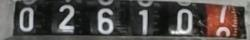digits: (212, 2, 230, 40), (169, 8, 192, 34), (57, 3, 75, 30), (97, 8, 114, 34), (18, 7, 34, 31), (138, 9, 148, 34)
